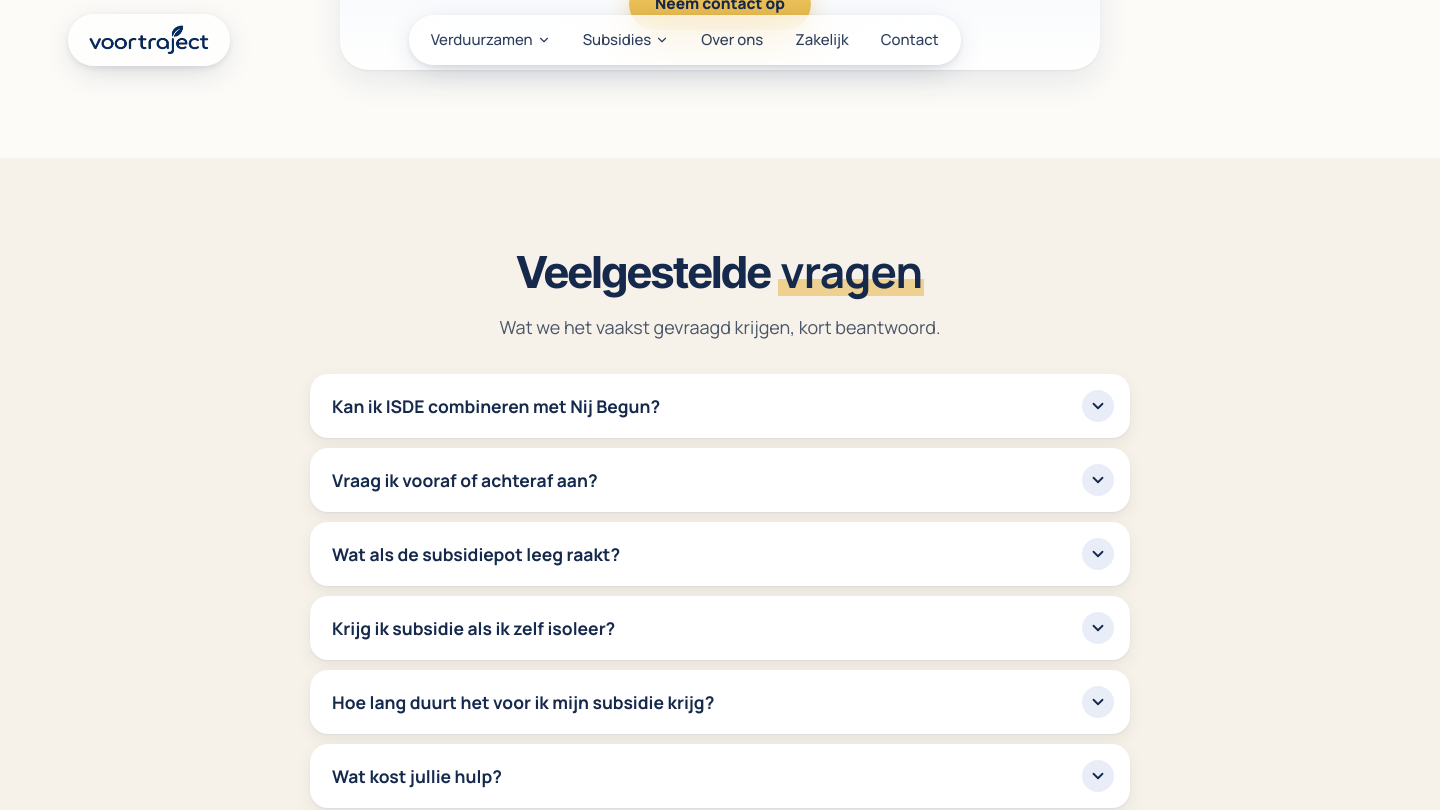
/subsidies/landelijk › opent één vraag tegelijk in de FAQ
(page scrolled)
Click the button "Kan ik ISDE combineren met Nij Begun?". click: (496, 406)
box: [310,374,1130,438]
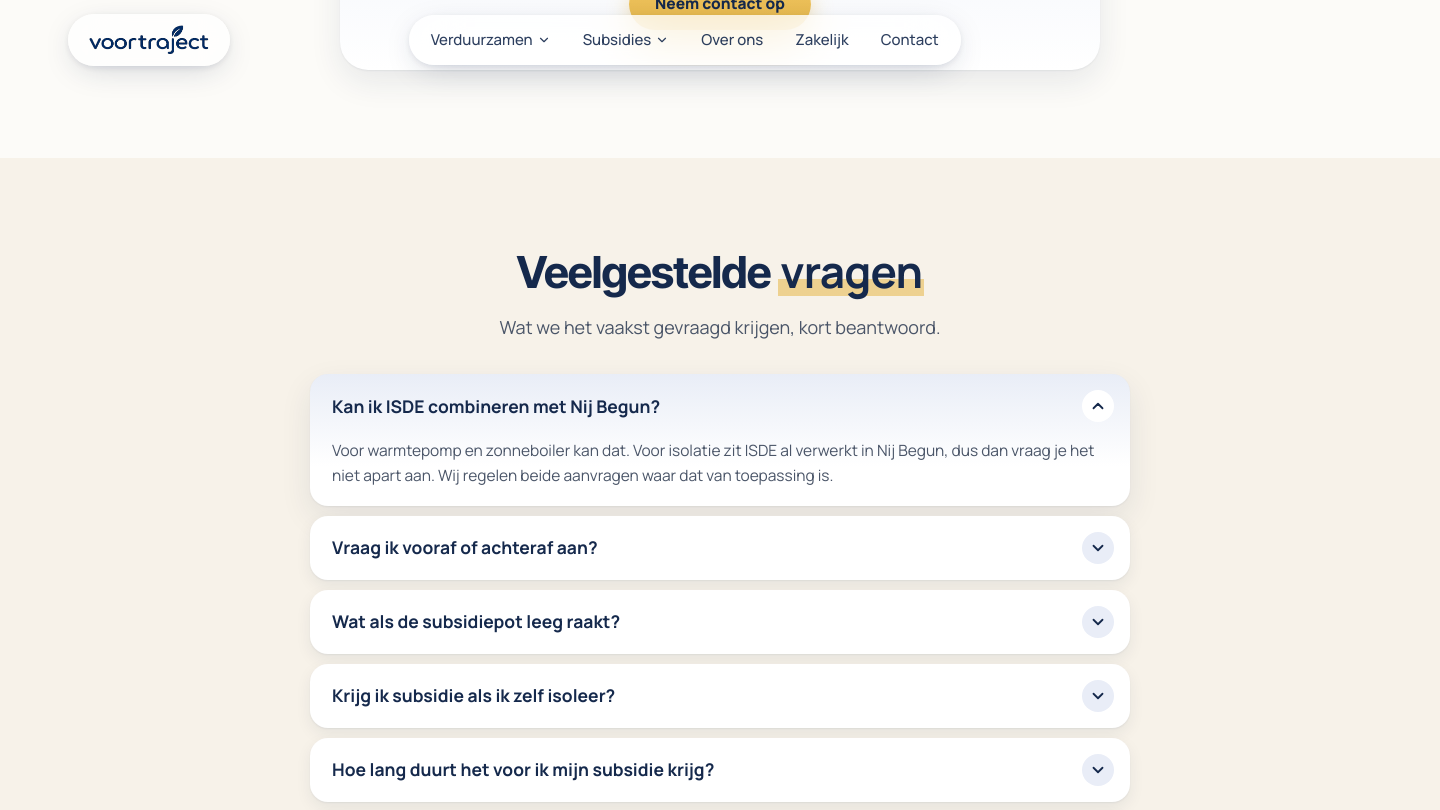
Expected: the button "Kan ik ISDE combineren met Nij Begun?" is expanded, [310,374,1130,438]
Click the button "Vraag ik vooraf of achteraf aan?". click: (465, 547)
box: [310,516,1130,580]
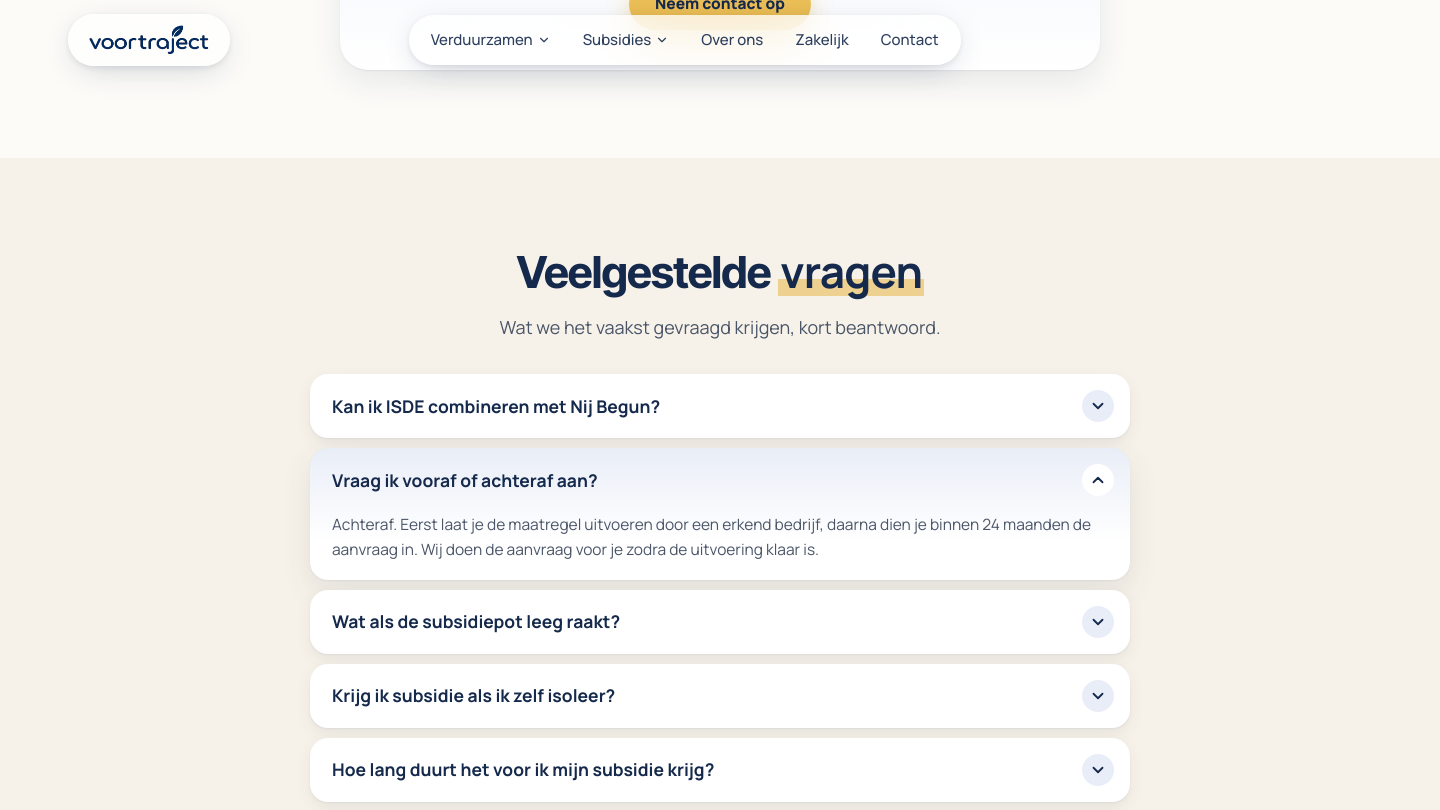
Expected: the button "Kan ik ISDE combineren met Nij Begun?" is collapsed, [310,374,1130,438]
Expected: the button "Vraag ik vooraf of achteraf aan?" is expanded
Click the button "Vraag ik vooraf of achteraf aan?". click: (465, 480)
box: [310,448,1130,512]
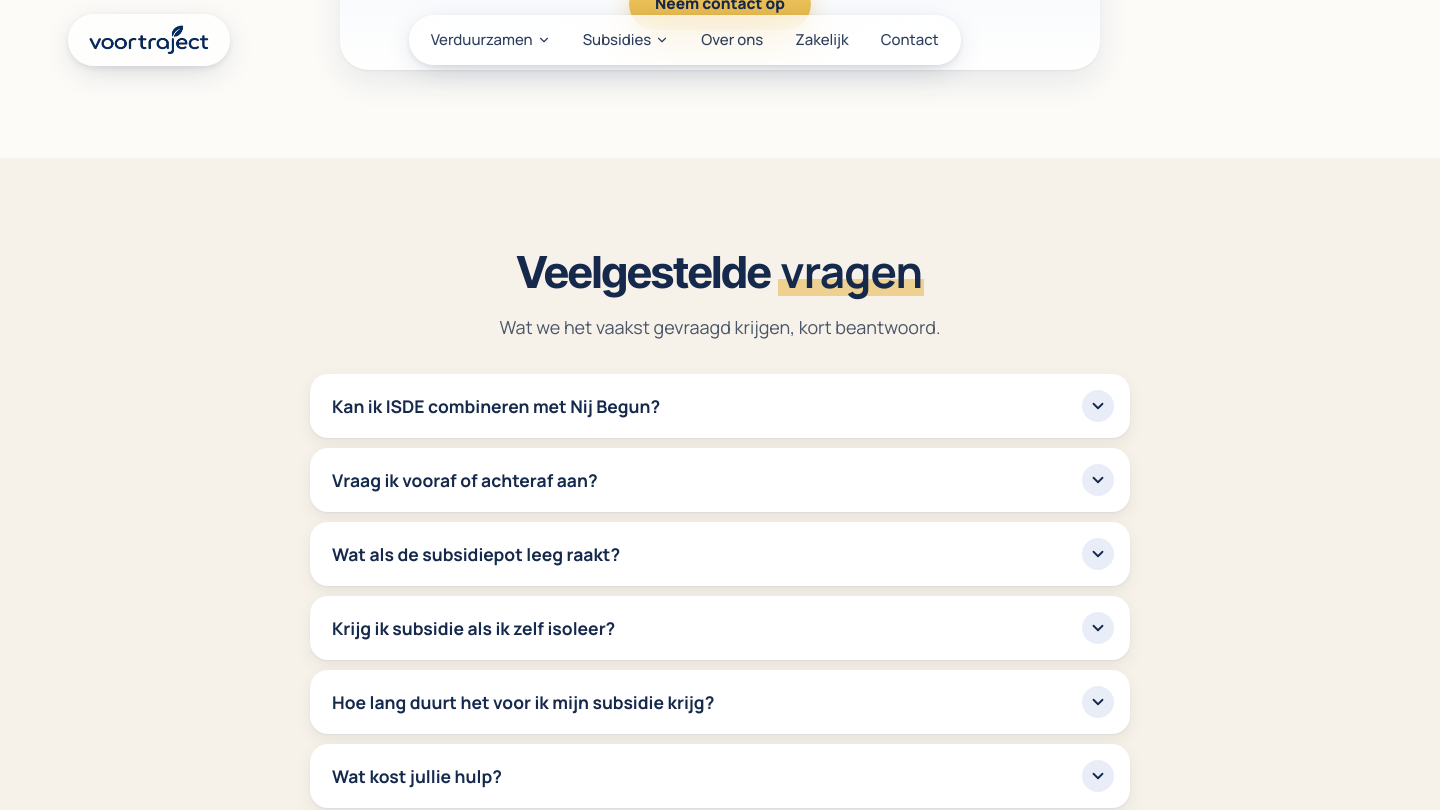
Expected: the button "Vraag ik vooraf of achteraf aan?" is collapsed, [310,448,1130,512]
